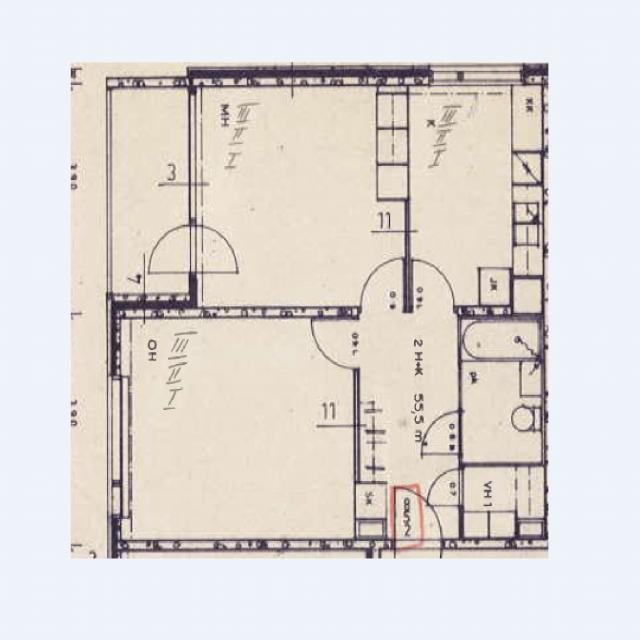door: (394, 484, 440, 548), (394, 537, 440, 601), (188, 226, 241, 272), (149, 226, 202, 272), (412, 258, 455, 313), (313, 321, 360, 367), (362, 260, 402, 313), (420, 410, 463, 452), (425, 469, 463, 505)
